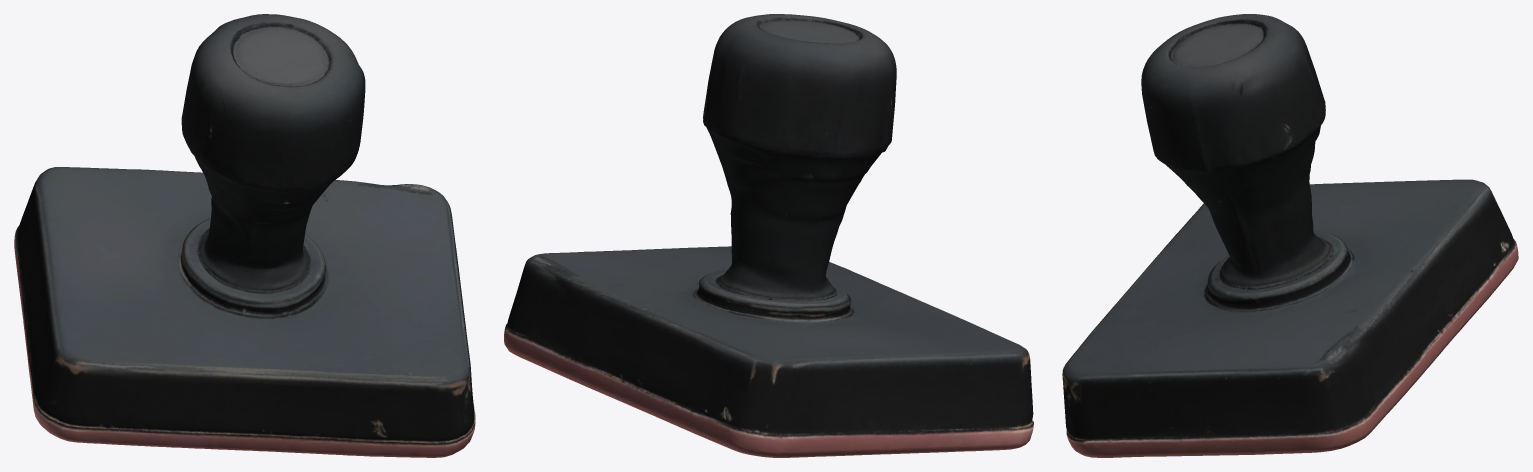
File: image_20k.glb
3 renders of one model, left to right at view 1: azimuth 30°, elevation 25°; view 2: azimuth 150°, elevation 25°; view 3: azimuth 270°, elevation 25°, orthographic. The views are drawn at different scales.
Visible parts, largest first — view 1: RETOPO; view 2: RETOPO; view 3: RETOPO.
Part boxes in pixels (x1,y1,x2,y2): RETOPO: (14, 14, 475, 457); RETOPO: (504, 14, 1033, 457); RETOPO: (1062, 14, 1518, 457).
Bounding box in the file's own units: 0.9255 × 0.7531 × 0.8317.
1 material, 1 textured.
